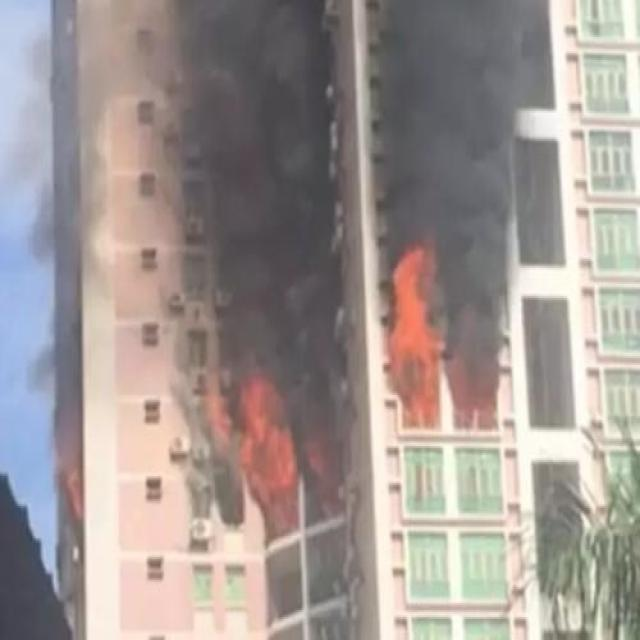Fire: (389, 244, 440, 428), (237, 380, 297, 532)
Smoke: (168, 1, 332, 452), (381, 4, 534, 416)
